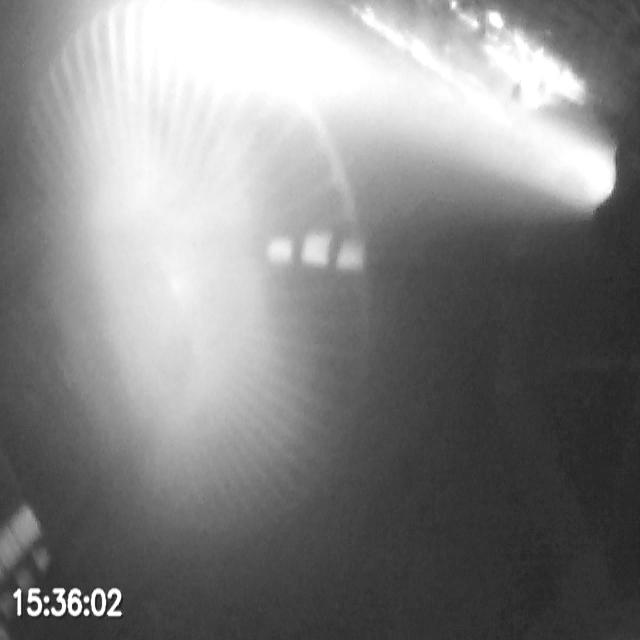white-dots: (264, 229, 366, 274)
